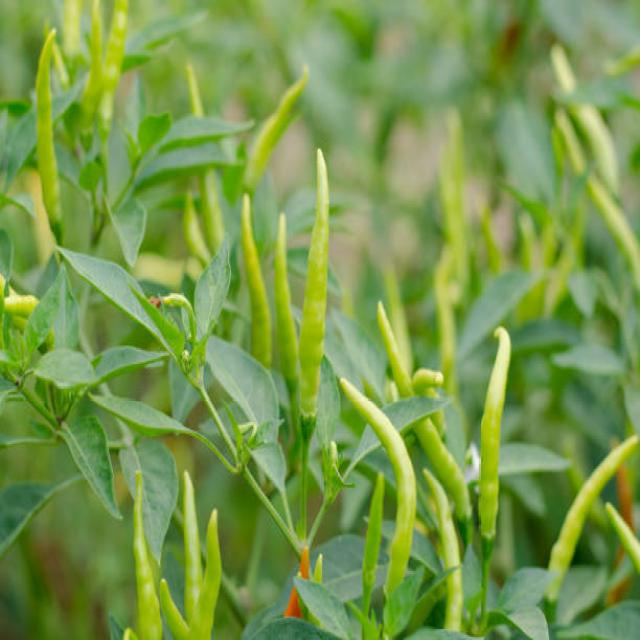Unripe: (341, 379, 416, 595), (545, 435, 638, 602), (480, 326, 511, 629), (299, 148, 329, 420), (414, 418, 471, 541), (424, 469, 462, 631), (241, 193, 270, 367), (134, 471, 161, 638), (275, 214, 298, 395), (190, 510, 221, 639), (378, 302, 415, 398), (185, 471, 202, 622), (605, 502, 640, 573), (160, 579, 190, 639), (412, 368, 444, 391)
